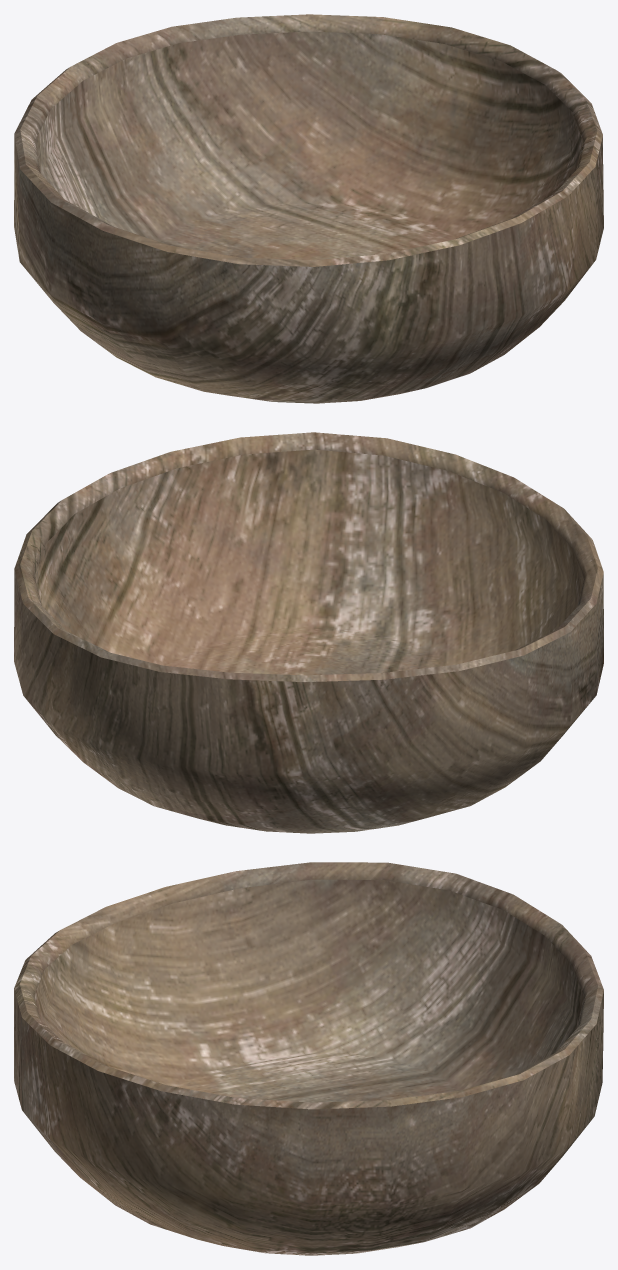
The model's file is SM_Bowl_01.fbx.
3 renders of one model, top to bottom at view 1: azimuth 30°, elevation 25°; view 2: azimuth 150°, elevation 25°; view 3: azimuth 270°, elevation 25°, orthographic.
Visible parts, largest first — view 1: SM_Bowl_01_LOD0; view 2: SM_Bowl_01_LOD0; view 3: SM_Bowl_01_LOD0.
Part boxes in pixels (x1,y1,x2,y2): SM_Bowl_01_LOD0: [14, 14, 603, 403]; SM_Bowl_01_LOD0: [14, 432, 603, 833]; SM_Bowl_01_LOD0: [14, 862, 603, 1255].
Size of the model in its own units: 23.57 by 23.47 by 9.09.
1 material, 1 textured.
